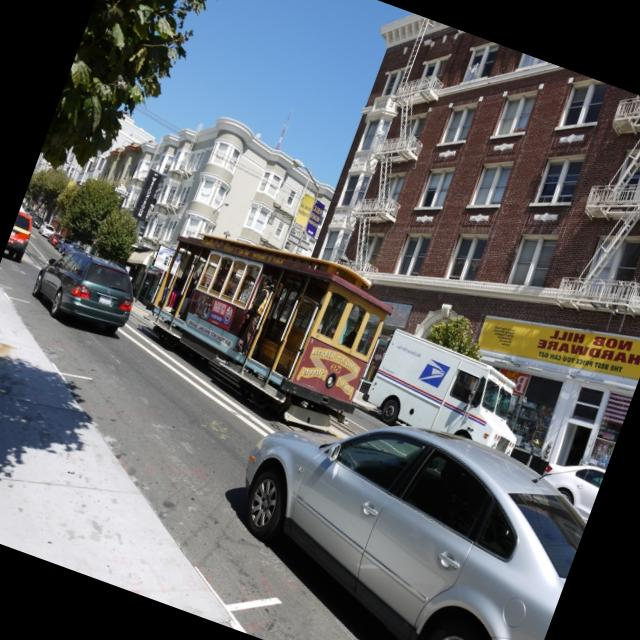bus: (358, 324, 540, 469)
